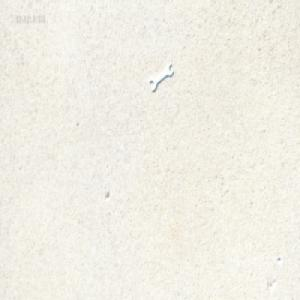Wrench: (150, 64, 174, 94)
